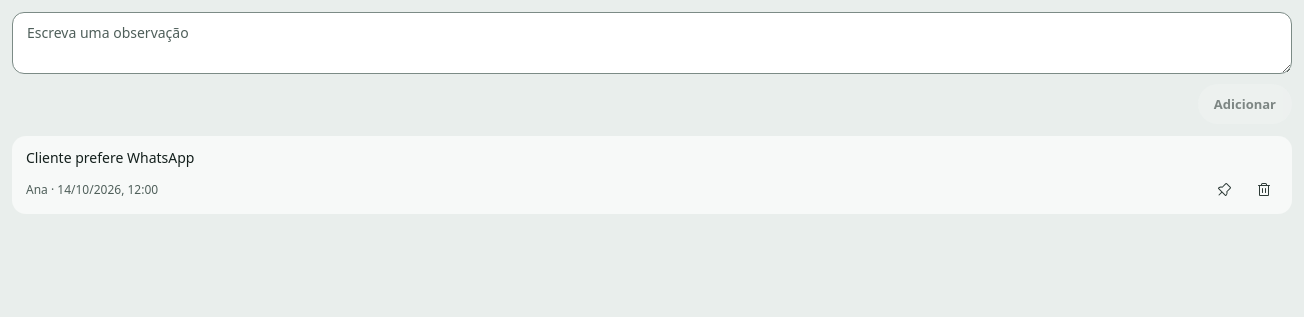
NotesList › adds a note, clears the box and shows it
Expected: the text "Cliente prefere WhatsApp" is shown, 26,148 -> 194,167
Type "  Ligar amanhã  " into the text box named "Nova observação".
click(652, 43); type("  Ligar amanhã  ")  # box 12,12 -> 1292,74
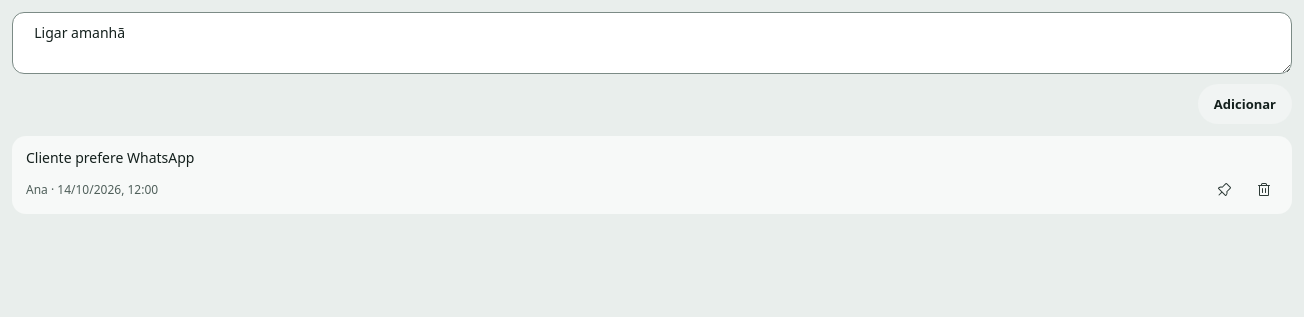
Click the button "Adicionar".
click(1245, 104)  # box 1198,84 -> 1292,124
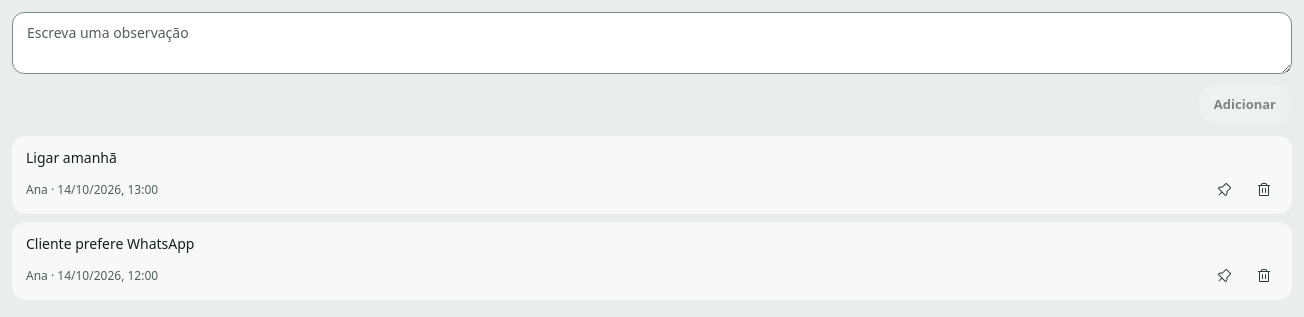
Result: the text "Ligar amanhã" is shown at 26,148 -> 117,167
Result: the text box named "Nova observação" is empty at 12,12 -> 1292,74
